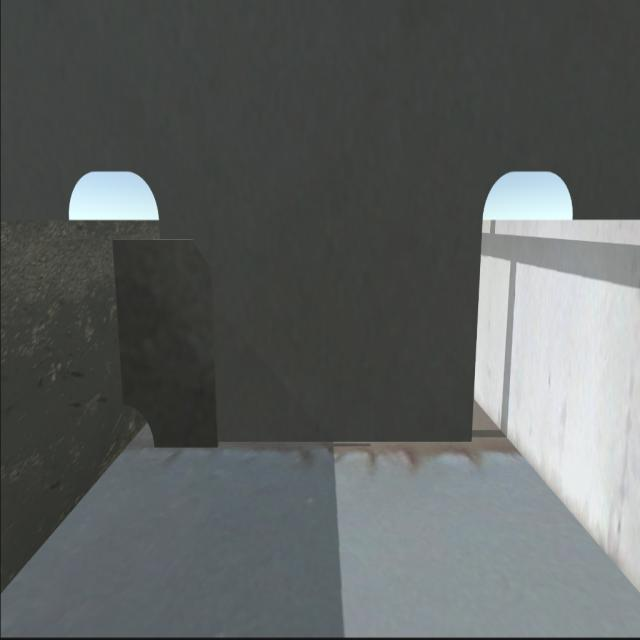fillet_hole: (120, 398, 160, 455)
fillet_yong_jeop_jang: (152, 438, 474, 450)
longi_yong_jeop_jang: (108, 235, 132, 398)
plate_CP03: (108, 238, 222, 451)
